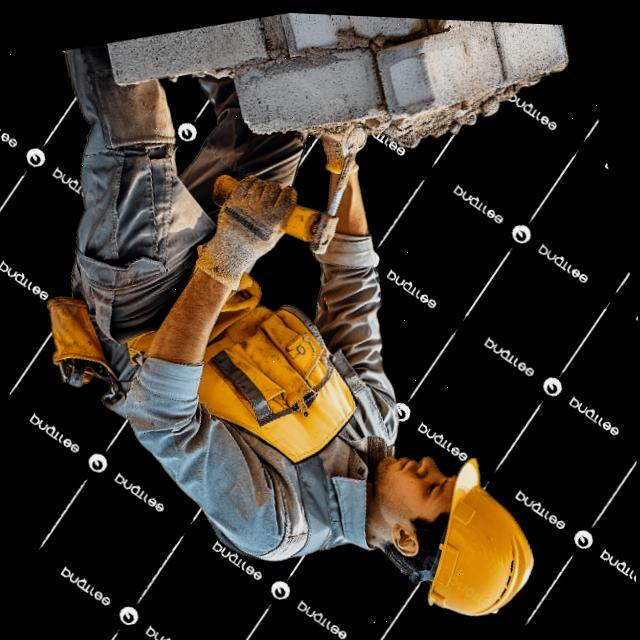helmet: (392, 436, 547, 640)
vest: (98, 229, 390, 521)
